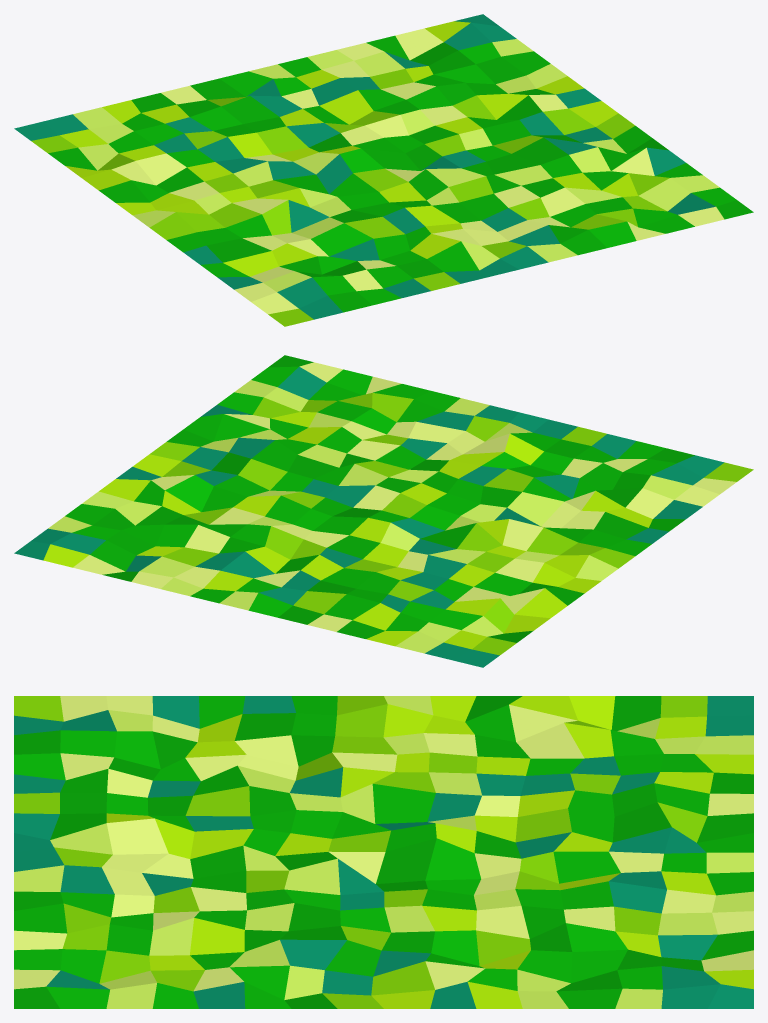
Rendered from grass_6.glb.
3 renders of one model, top to bottom at view 1: azimuth 30°, elevation 25°; view 2: azimuth 150°, elevation 25°; view 3: azimuth 270°, elevation 25°, orthographic. The views are drawn at different scales.
Parts seen in each view (by area): view 1: grass; view 2: grass; view 3: grass.
Part boxes in pixels (x1,y1,x2,y2): grass: (14, 14, 753, 326); grass: (14, 355, 753, 667); grass: (14, 696, 753, 1008).
Size of the model in its own units: 4 by 0.1729 by 4.
